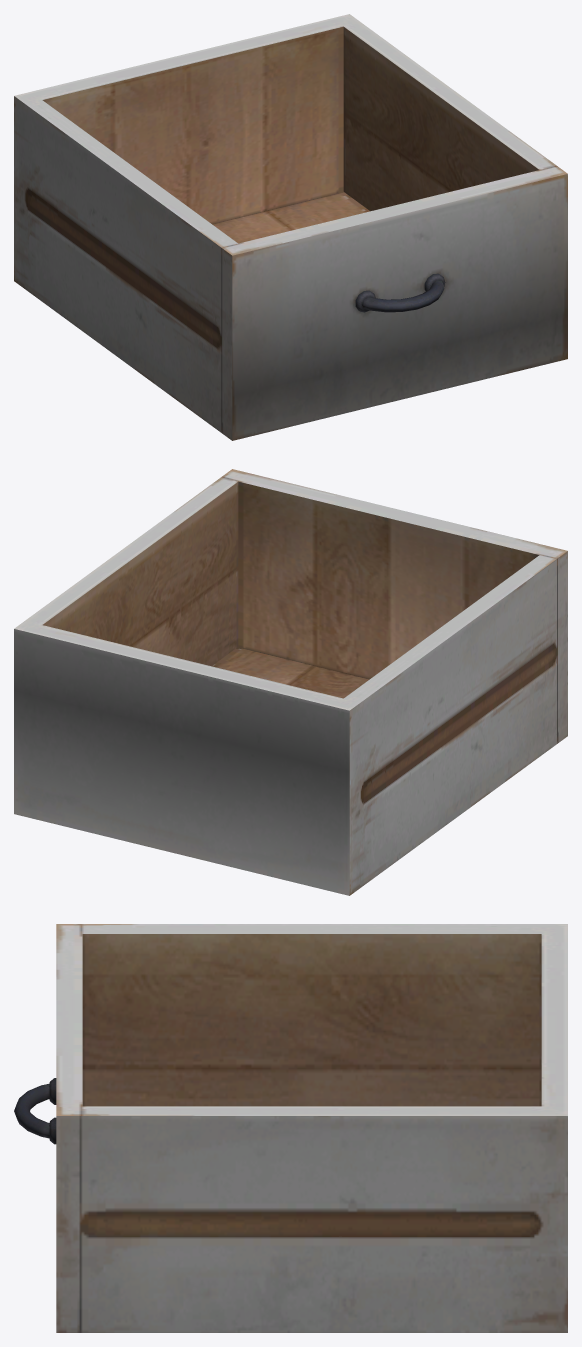
The model's file is chest_of_drawers_bedside_drawer.dae.
The picture shows the model from 3 angles, top to bottom: view 1: azimuth 30°, elevation 25°; view 2: azimuth 150°, elevation 25°; view 3: azimuth 270°, elevation 25°; orthographic projection. The views are drawn at different scales.
Parts seen in each view (by area): view 1: chest_of_drawers_bedside_drawer2; view 2: chest_of_drawers_bedside_drawer2; view 3: chest_of_drawers_bedside_drawer2.
Boxes of the visible parts, left/top/right/bottom form: chest_of_drawers_bedside_drawer2: left=14, top=14, right=567, bottom=440; chest_of_drawers_bedside_drawer2: left=14, top=469, right=567, bottom=895; chest_of_drawers_bedside_drawer2: left=14, top=924, right=567, bottom=1332.
Size of the model in its own units: 47.91 by 25.27 by 58.46.
